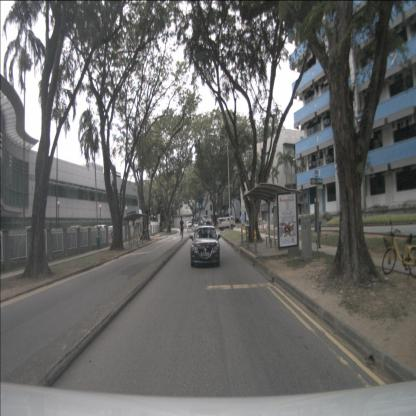human-pedestrian-adult: (316, 201, 324, 248), (179, 216, 184, 241), (187, 222, 189, 233)
vehicle-bicycle: (382, 218, 415, 280)
vehicle-car: (191, 226, 221, 267), (203, 218, 212, 235), (186, 221, 192, 228)
vehicle-truck: (216, 216, 235, 231), (199, 209, 208, 227)
